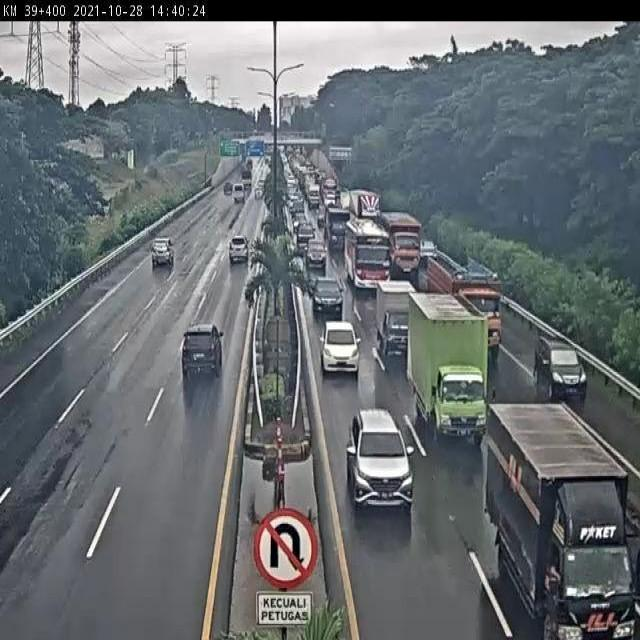bus-l-: (343, 213, 389, 288)
car: (345, 409, 414, 507), (533, 334, 588, 402), (181, 324, 228, 375), (321, 320, 360, 372), (310, 279, 342, 313), (149, 235, 176, 268), (227, 236, 250, 264), (305, 238, 327, 266)
truck-l-: (427, 253, 501, 355), (383, 213, 420, 270)
truck-m-: (486, 404, 640, 640), (407, 294, 492, 446)
truck-s-: (373, 279, 419, 357)
